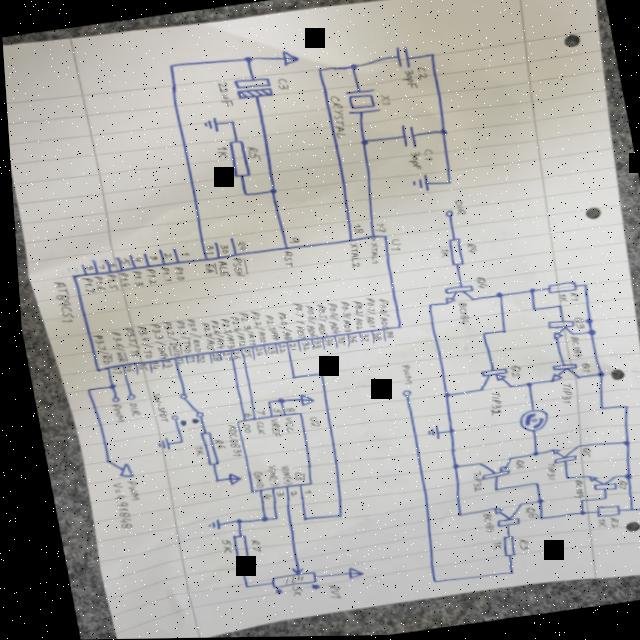capacitor: (230, 75, 273, 102), (395, 123, 417, 149), (391, 44, 411, 70)
ground: (406, 175, 427, 195), (198, 116, 218, 134), (417, 424, 434, 442), (149, 437, 163, 452), (198, 518, 213, 532)
junction: (240, 55, 254, 64), (436, 129, 447, 139), (225, 517, 237, 526), (263, 187, 275, 196), (250, 515, 262, 524), (346, 63, 357, 72), (356, 138, 367, 147), (281, 374, 293, 382), (580, 330, 592, 338), (439, 427, 449, 436), (489, 292, 500, 300), (443, 463, 454, 471), (309, 371, 320, 379), (435, 392, 445, 400), (527, 498, 537, 506), (164, 63, 175, 70), (517, 382, 528, 389), (425, 52, 434, 60), (327, 512, 336, 520), (614, 441, 624, 448), (441, 180, 451, 187), (101, 383, 111, 390), (237, 191, 247, 198), (225, 119, 235, 126), (420, 302, 430, 309), (575, 283, 585, 290), (313, 67, 323, 74), (589, 372, 599, 379), (615, 475, 625, 482), (269, 398, 279, 405), (524, 451, 533, 458), (205, 477, 214, 484), (447, 512, 456, 519), (522, 288, 531, 295), (234, 583, 243, 590), (292, 516, 301, 523), (615, 405, 624, 412), (263, 516, 272, 523), (474, 332, 482, 339), (78, 386, 86, 393), (591, 406, 599, 413), (484, 487, 493, 493), (498, 571, 507, 577), (96, 458, 105, 464), (525, 307, 533, 313), (494, 329, 502, 335), (422, 579, 430, 585), (570, 511, 577, 517), (171, 439, 178, 445), (525, 482, 532, 488), (551, 305, 558, 310), (556, 476, 562, 481), (530, 517, 536, 522), (594, 497, 600, 502), (620, 509, 626, 514), (260, 400, 266, 405), (571, 500, 576, 505)
resistor: (259, 564, 309, 590), (224, 139, 248, 179), (222, 533, 244, 571), (192, 430, 213, 467), (442, 238, 461, 268), (540, 281, 573, 297), (586, 505, 614, 520), (491, 536, 509, 559)
source: (278, 49, 299, 67), (337, 566, 356, 580), (292, 393, 309, 407), (219, 472, 235, 486), (630, 504, 640, 517)
switch: (159, 391, 199, 421)
terminal: (109, 461, 128, 480), (439, 210, 451, 219), (395, 390, 406, 398), (119, 393, 131, 400), (103, 396, 115, 403)
text: (100, 480, 127, 531), (48, 279, 70, 324), (326, 96, 348, 141), (145, 322, 167, 360), (155, 320, 177, 358), (86, 333, 109, 365), (131, 324, 150, 360), (285, 302, 303, 339), (169, 319, 188, 354), (232, 312, 251, 347), (103, 330, 123, 363), (369, 298, 389, 330), (355, 297, 375, 329), (180, 318, 198, 353), (318, 302, 337, 335), (117, 326, 137, 357), (244, 310, 262, 344), (213, 80, 234, 109), (297, 304, 314, 339), (145, 391, 163, 424), (332, 300, 350, 333), (308, 304, 326, 337), (269, 311, 288, 342), (224, 315, 241, 348), (344, 300, 362, 331), (194, 321, 212, 352), (203, 319, 221, 350), (219, 424, 235, 458), (479, 391, 499, 418), (214, 317, 230, 349), (258, 315, 275, 342), (449, 302, 467, 327), (342, 242, 358, 270), (117, 478, 135, 502), (225, 256, 244, 278), (551, 384, 569, 406), (398, 69, 416, 91), (561, 337, 578, 360), (260, 418, 277, 440), (403, 151, 420, 172), (362, 243, 377, 265), (393, 364, 408, 386), (242, 145, 259, 164), (258, 464, 272, 487), (562, 480, 578, 500), (473, 513, 488, 534), (462, 471, 476, 493), (317, 583, 334, 601), (103, 403, 118, 423), (271, 574, 296, 586), (273, 464, 286, 486), (139, 267, 154, 286), (276, 250, 291, 268), (212, 260, 226, 279), (448, 200, 463, 217), (167, 265, 182, 282), (154, 266, 169, 283), (125, 270, 140, 287), (111, 271, 126, 288), (76, 277, 91, 294), (100, 273, 114, 291), (88, 274, 102, 292), (245, 470, 258, 489), (537, 463, 550, 482), (275, 416, 288, 434), (413, 67, 428, 82), (239, 539, 254, 554), (273, 77, 288, 92), (515, 507, 531, 521), (121, 402, 135, 417), (376, 94, 390, 109), (566, 317, 580, 332), (212, 538, 225, 554), (199, 262, 213, 276), (470, 277, 484, 291), (503, 365, 517, 379), (213, 145, 226, 160), (247, 420, 260, 435), (384, 239, 398, 252), (281, 585, 294, 598), (509, 539, 522, 552), (460, 243, 474, 255), (633, 516, 640, 539), (419, 149, 431, 162), (600, 517, 612, 530), (301, 416, 313, 429), (206, 438, 219, 450), (563, 292, 575, 304), (186, 445, 198, 457), (572, 448, 585, 459), (369, 223, 382, 234), (349, 223, 360, 235), (231, 240, 243, 251), (214, 244, 226, 255), (199, 245, 211, 256), (506, 460, 518, 471), (608, 481, 620, 492), (286, 471, 298, 482), (574, 363, 585, 374), (588, 519, 599, 530), (235, 423, 245, 435), (104, 366, 116, 376), (434, 249, 446, 259), (131, 362, 143, 372), (115, 257, 127, 267), (283, 236, 296, 245), (117, 364, 130, 373), (331, 336, 341, 347), (247, 347, 258, 357), (236, 348, 246, 359), (226, 350, 236, 361), (552, 294, 563, 304), (317, 338, 329, 347), (355, 333, 365, 343), (306, 340, 317, 349), (296, 341, 305, 352), (272, 344, 281, 355), (205, 353, 216, 362), (156, 359, 167, 368), (144, 361, 155, 370), (483, 542, 494, 551), (367, 332, 377, 341), (343, 335, 353, 344), (260, 346, 270, 355), (216, 352, 225, 362), (191, 354, 201, 363), (169, 358, 179, 367), (265, 407, 275, 416), (143, 254, 155, 261), (128, 256, 140, 263), (277, 407, 289, 414), (266, 491, 278, 498), (379, 330, 388, 339), (283, 343, 292, 352), (281, 490, 291, 498), (253, 493, 264, 500), (248, 409, 259, 416), (181, 356, 191, 363), (158, 252, 168, 259), (92, 263, 102, 270), (80, 264, 90, 271), (175, 251, 186, 257), (236, 412, 246, 418), (104, 262, 113, 268), (296, 489, 304, 494)
transistor: (470, 367, 506, 393), (469, 457, 506, 481), (436, 283, 471, 308), (484, 504, 518, 529), (541, 363, 575, 385), (541, 319, 572, 342), (542, 445, 575, 466), (580, 473, 611, 495)
